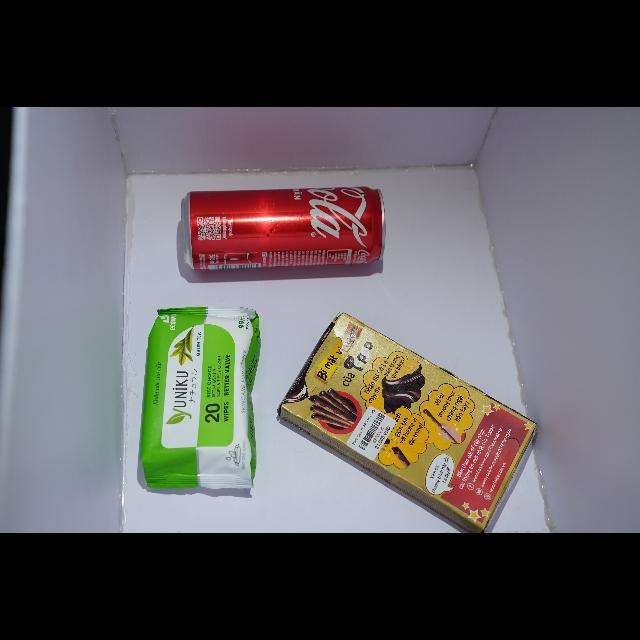banh_toppo_socola: (279, 314, 537, 534)
coca_cola: (183, 187, 385, 271)
khan_giay: (140, 307, 259, 489)
